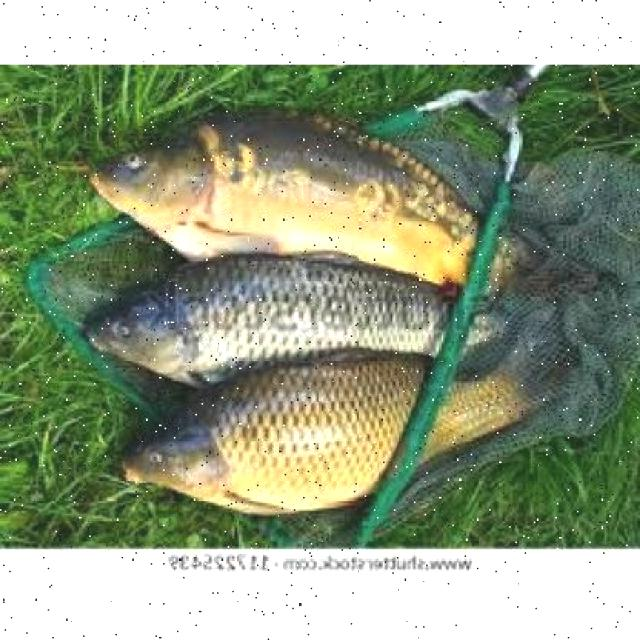ikan-mas: (99, 111, 492, 280), (106, 366, 546, 504), (84, 254, 510, 356)
